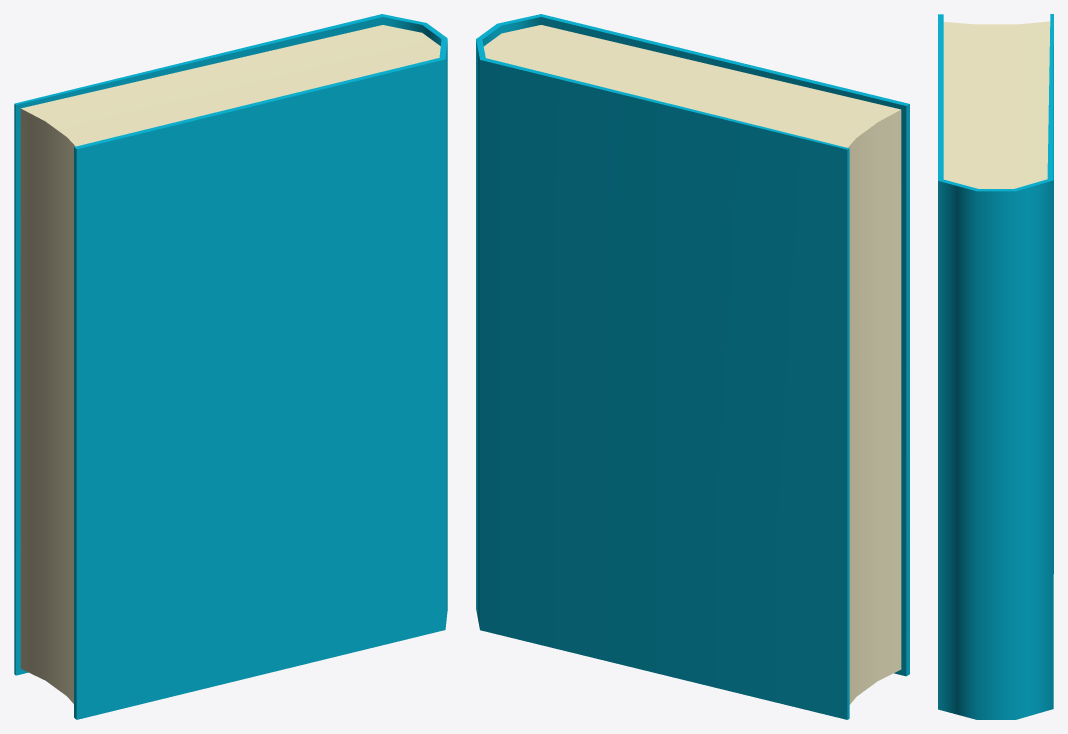
Rendered from Book_01.fbx.
The picture shows the model from 3 angles, left to right: view 1: azimuth 30°, elevation 25°; view 2: azimuth 150°, elevation 25°; view 3: azimuth 270°, elevation 25°; orthographic projection. The views are drawn at different scales.
Visible parts, largest first — view 1: Book01_LOD00; view 2: Book01_LOD00; view 3: Book01_LOD00.
Part boxes in pixels (box(x1,y1,x2,y2)): Book01_LOD00: box(14, 14, 447, 719); Book01_LOD00: box(476, 14, 909, 719); Book01_LOD00: box(938, 14, 1053, 719).
Size of what is drawn, in the model's own units: 17.93 by 24.92 by 4.94.
